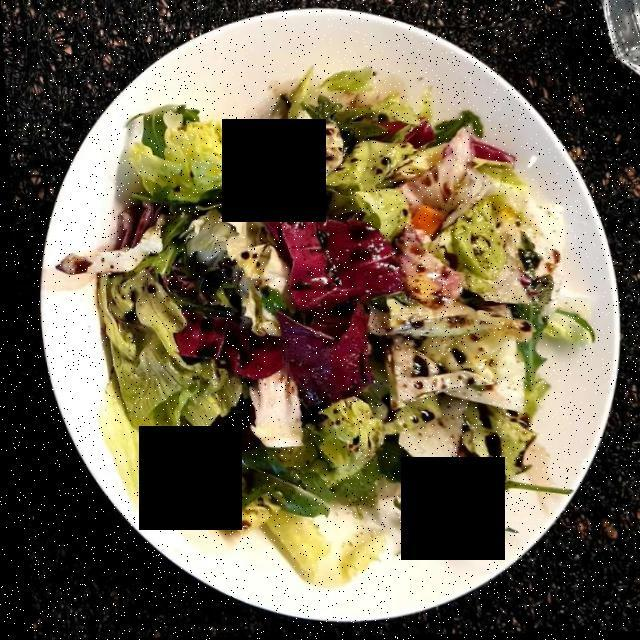salad: (85, 75, 563, 583), (103, 156, 558, 510)
